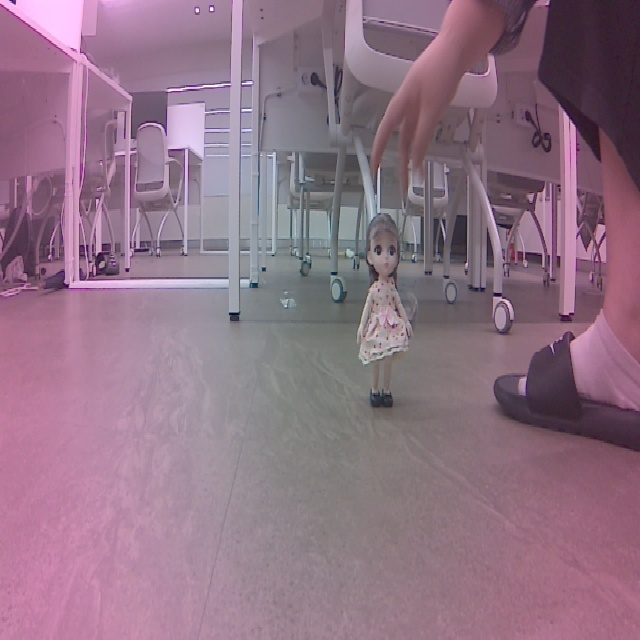장애물: (353, 209, 420, 410)
